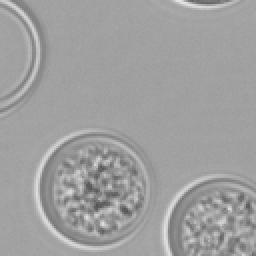picoshell: (34, 132, 150, 248), (164, 175, 254, 254), (174, 0, 236, 6)
